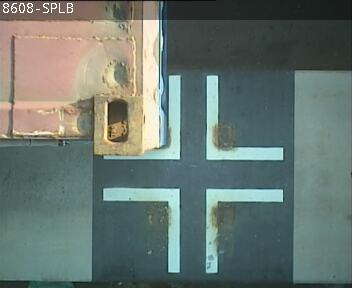groundmarker_1: (105, 74, 282, 160), (104, 187, 282, 272)
